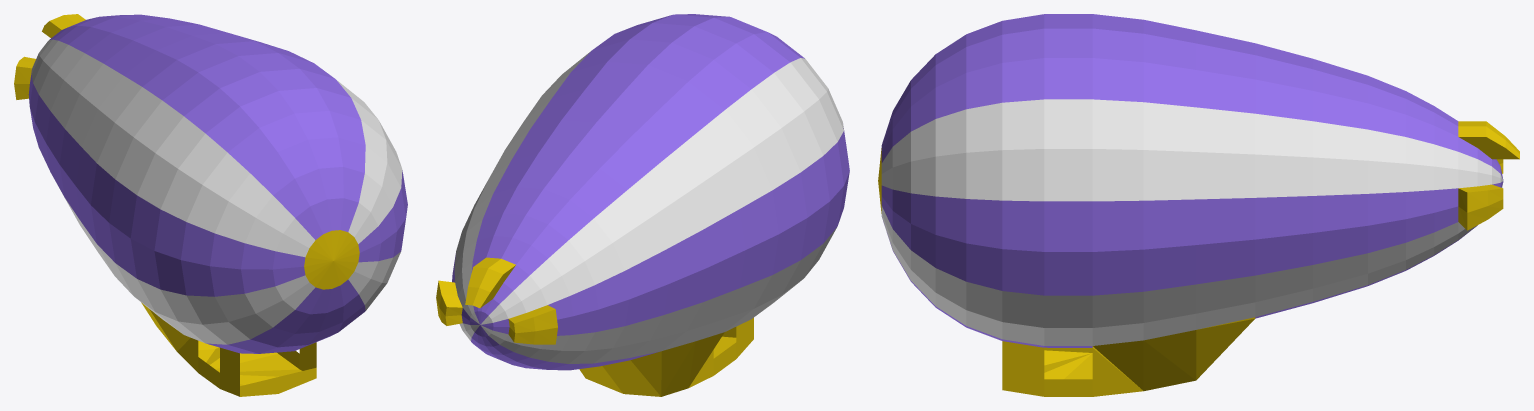
Rendered from finalzeplininside.fbx.
3 renders of one model, left to right at view 1: azimuth 30°, elevation 25°; view 2: azimuth 150°, elevation 25°; view 3: azimuth 270°, elevation 25°, orthographic. The views are drawn at different scales.
Parts seen in each view (by area): view 1: pSphere1; view 2: pSphere1; view 3: pSphere1.
Part boxes in pixels (bbox=[...]): pSphere1: bbox=[14, 14, 407, 396]; pSphere1: bbox=[436, 14, 849, 396]; pSphere1: bbox=[878, 14, 1519, 396].
Bounding box in the file's own units: 6.82 × 7.8 × 13.01.
